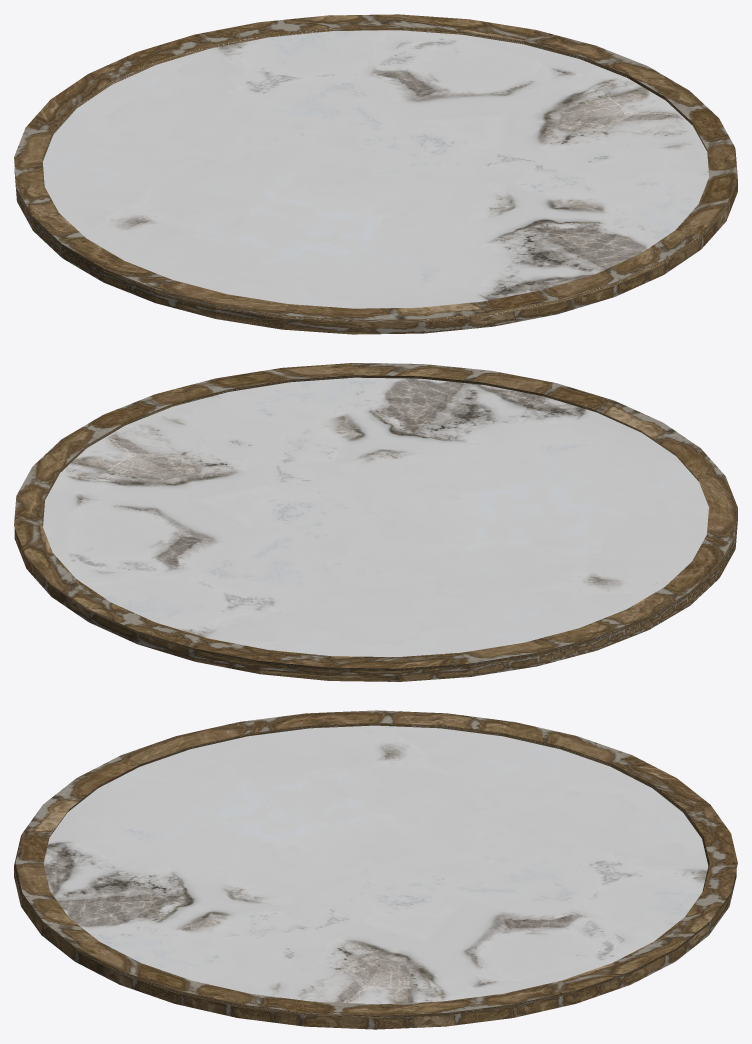
The model's file is Round_Stage.fbx.
3 renders of one model, top to bottom at view 1: azimuth 30°, elevation 25°; view 2: azimuth 150°, elevation 25°; view 3: azimuth 270°, elevation 25°, orthographic.
Parts seen in each view (by area): view 1: Cylinder; view 2: Cylinder; view 3: Cylinder.
Boxes of the visible parts, box(x1,y1,x2,y2) form: Cylinder: box(14, 14, 737, 334); Cylinder: box(14, 363, 737, 681); Cylinder: box(14, 710, 737, 1029).
Size of the model in its own units: 6507 by 137 by 6519.
Materials: 3 (3 with a texture image).
